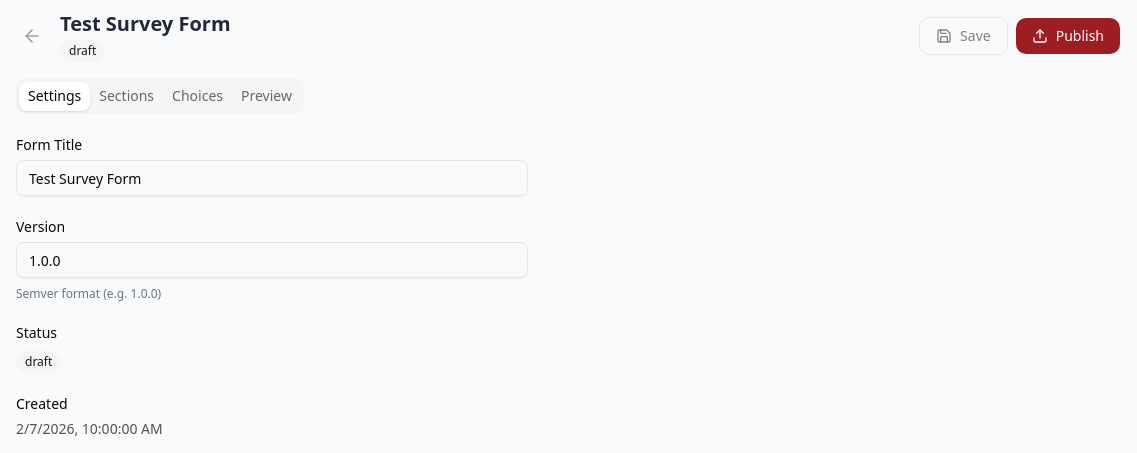
FormBuilderPage › Settings tab allows editing title
Replace the text in the field showing "Test Survey Form" with "Updated Title": {"x": 272, "y": 178} [16,160,528,196]
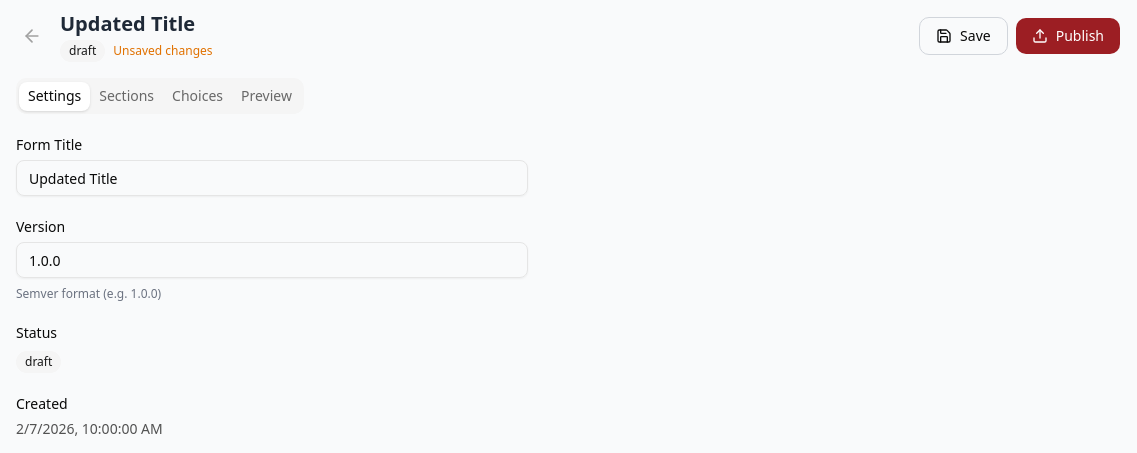
Expected: the text "Unsaved changes" is shown, [113,43,213,59]
